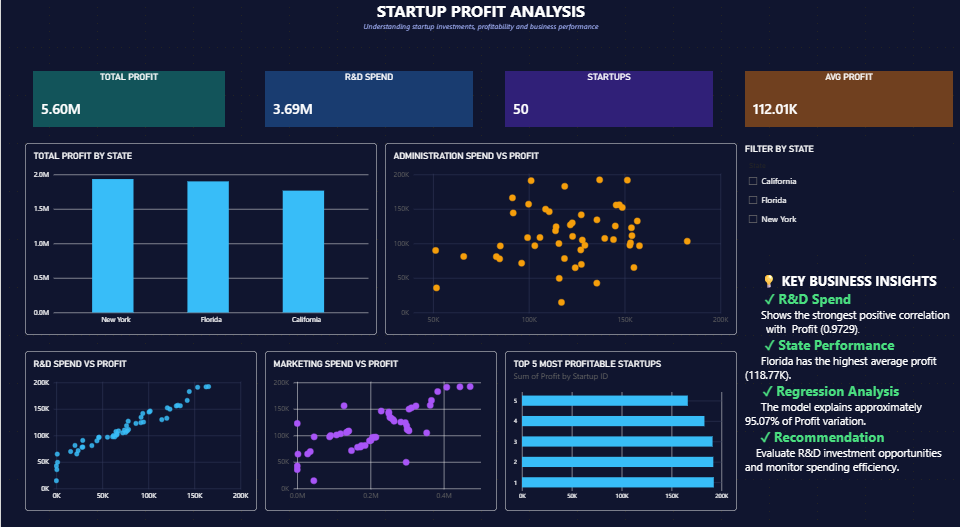

The dashboard page shown, as its layout file describes it:
{"tool":"powerbi","page":{"name":"Page 1","canvas":[1920,1080],"ordinal":0},"visuals":[{"type":"cardVisual","title":"STARTUPS","fields":{"Data":["CountNonNull(50_Startups.State)"]},"box":[85.7,92.9,247.7,80],"z":0},{"type":"cardVisual","title":"TOTAL PROFIT","fields":{"Data":["Sum(50_Startups.Profit)"]},"box":[377.1,92.9,262.9,80],"z":1000},{"type":"cardVisual","title":"AVG PROFIT","fields":{"Data":["Avg(50_Startups.Profit)"]},"box":[678.6,92.9,262.9,80],"z":2000},{"type":"cardVisual","title":"R&D SPEND","fields":{"Data":["Sum(50_Startups.R&D Spend)"]},"box":[991.4,92.9,262.9,80],"z":3000},{"type":"clusteredColumnChart","title":"TOTAL PROFIT BY STATE","fields":{"Category":["50_Startups.State"],"Y":["Sum(50_Startups.Profit)"]},"box":[85.7,264.3,468.6,292.9],"z":4000},{"type":"scatterChart","title":"R&D SPEND VS PROFIT","fields":{"Category":["50_Startups.Startup ID"],"X":["Sum(50_Startups.R&D Spend)"],"Y":["Sum(50_Startups.Profit)"]},"box":[86,567,469,293],"z":5000},{"type":"scatterChart","title":"MARKETING SPEND VS PROFIT","fields":{"Category":["50_Startups.Startup ID"],"X":["Sum(50_Startups.Marketing Spend)"],"Y":["Sum(50_Startups.Profit)"]},"box":[640,555.7,557.1,304.3],"z":6000},{"type":"scatterChart","title":"ADMINISTRATION SPEND VS PROFIT","fields":{"Category":["50_Startups.Startup ID"],"X":["Sum(50_Startups.Administration)"],"Y":["Sum(50_Startups.Profit)"]},"box":[654.2,212.5,469,292],"z":7000},{"type":"clusteredBarChart","title":"TOP 5 MOST PROFITABLE STARTUPS","fields":{"Category":["50_Startups.Startup ID"],"Y":["Sum(50_Startups.Profit)"]},"box":[1402,584,264,258],"z":8000},{"type":"slicer","title":"FILTER BY STATE","fields":{"Values":["50_Startups.State"]},"box":[1195.8,239.6,264,196],"z":9000},{"type":"textbox","box":[1353,22.7,313.6,268.2],"z":9001},{"type":"textbox","box":[1677,23,243,268],"z":9002}]}

Visuals, with their boxes in screenshot pixels (x1, y1, x2, y2), scaled from the page's 1920x1080 canvas onto the 960x527 screenshot:
"STARTUPS" cardVisual: l=43, t=45, r=167, b=84
"TOTAL PROFIT" cardVisual: l=189, t=45, r=320, b=84
"AVG PROFIT" cardVisual: l=339, t=45, r=471, b=84
"R&D SPEND" cardVisual: l=496, t=45, r=627, b=84
"TOTAL PROFIT BY STATE" clusteredColumnChart: l=43, t=129, r=277, b=272
"R&D SPEND VS PROFIT" scatterChart: l=43, t=277, r=278, b=420
"MARKETING SPEND VS PROFIT" scatterChart: l=320, t=271, r=599, b=420
"ADMINISTRATION SPEND VS PROFIT" scatterChart: l=327, t=104, r=562, b=246
"TOP 5 MOST PROFITABLE STARTUPS" clusteredBarChart: l=701, t=285, r=833, b=411
"FILTER BY STATE" slicer: l=598, t=117, r=730, b=213
textbox: l=676, t=11, r=833, b=142
textbox: l=838, t=11, r=959, b=142
